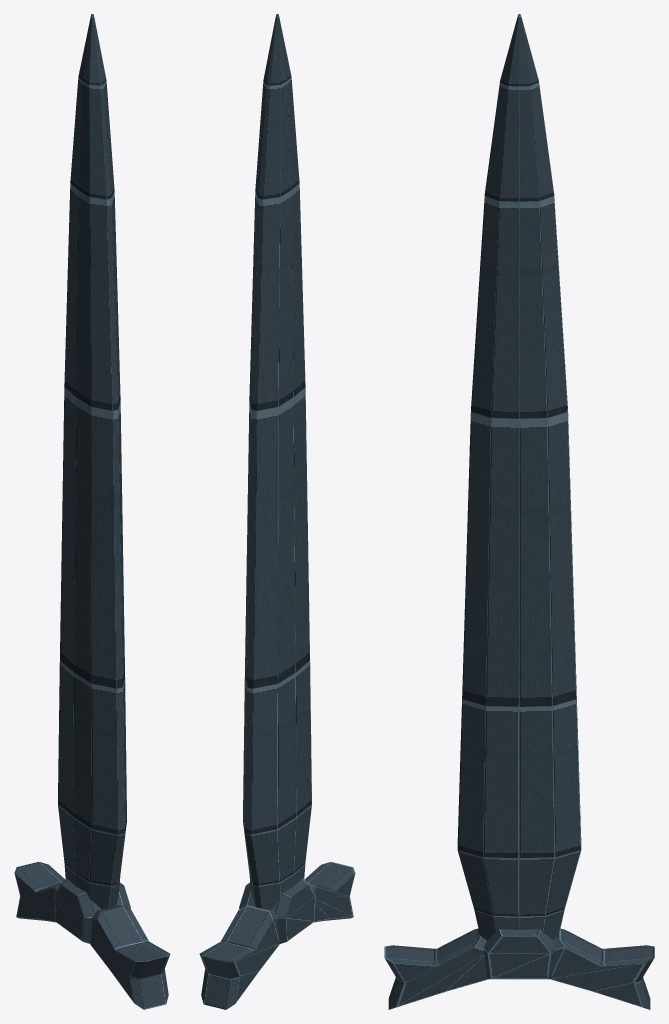
The model's file is workpiece_guiyan_sword_quenched.obj.
The picture shows the model from 3 angles, left to right: view 1: azimuth 30°, elevation 25°; view 2: azimuth 150°, elevation 25°; view 3: azimuth 270°, elevation 25°; orthographic projection. The views are drawn at different scales.
Visible parts, largest first — view 1: geometry; view 2: geometry; view 3: geometry.
Boxes of the visible parts, box(x1,y1,x2,y2) form: geometry: box(14, 14, 170, 1009); geometry: box(199, 14, 355, 1009); geometry: box(384, 14, 654, 1009).
Bounding box in the file's own units: 0.0756 × 1.48 × 0.365.
